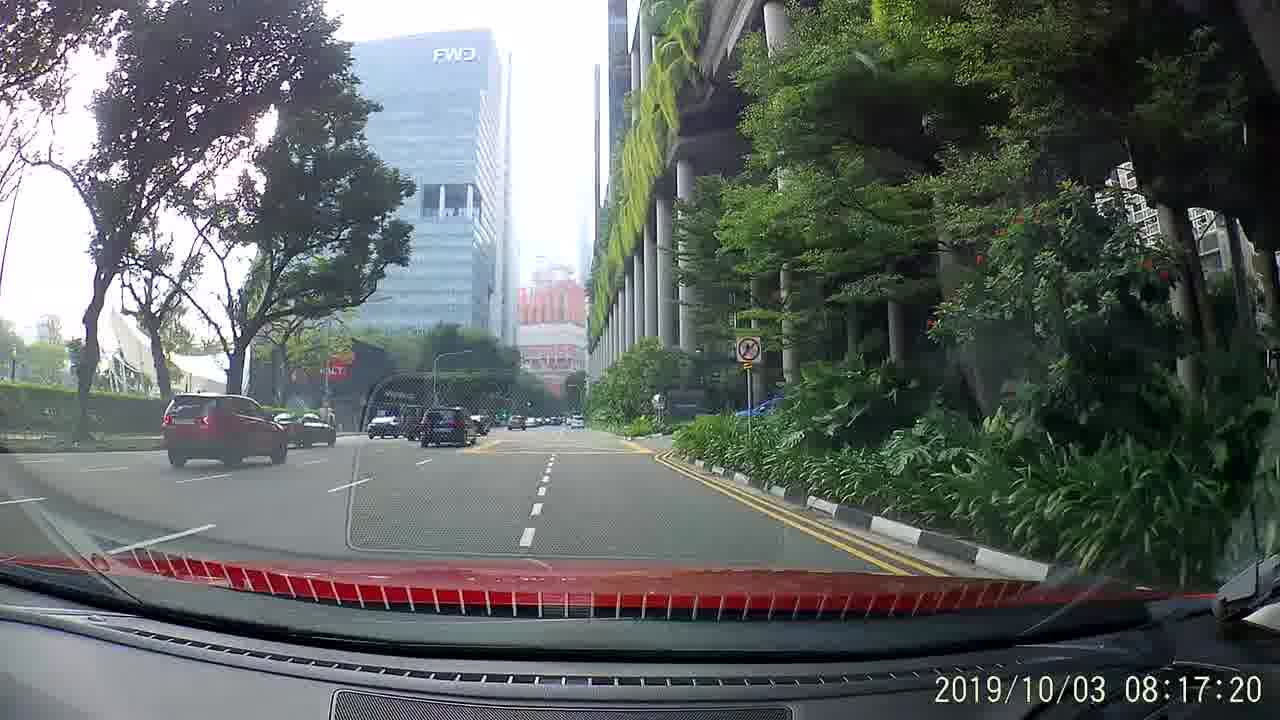car: (161, 392, 287, 470), (266, 408, 335, 453), (419, 406, 476, 448), (366, 413, 404, 442), (503, 411, 528, 432)
